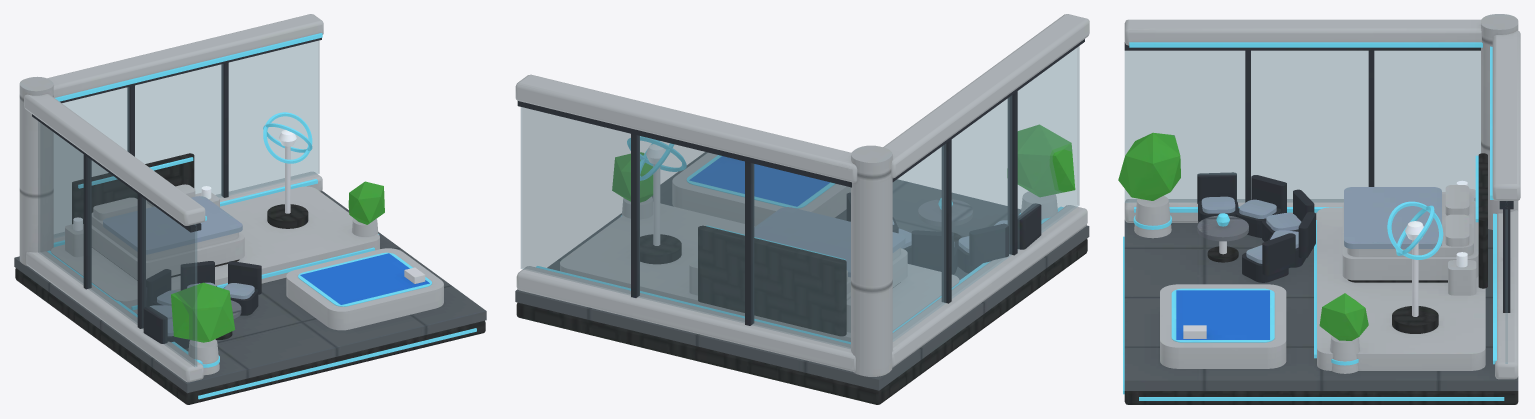
File: enterprise_habitat_t5.glb
3 renders of one model, left to right at view 1: azimuth 30°, elevation 25°; view 2: azimuth 150°, elevation 25°; view 3: azimuth 270°, elevation 25°, orthographic. The views are drawn at different scales.
Parts seen in each view (by area): view 1: te_enterprise_habitat_t5; view 2: te_enterprise_habitat_t5; view 3: te_enterprise_habitat_t5.
Part boxes in pixels (bbox=[...]): te_enterprise_habitat_t5: bbox=[14, 14, 486, 404]; te_enterprise_habitat_t5: bbox=[515, 14, 1089, 404]; te_enterprise_habitat_t5: bbox=[1118, 14, 1520, 404].
Bounding box in the file's own units: 0.849 × 0.532 × 0.859.
Materials: 2 (1 with a texture image).
